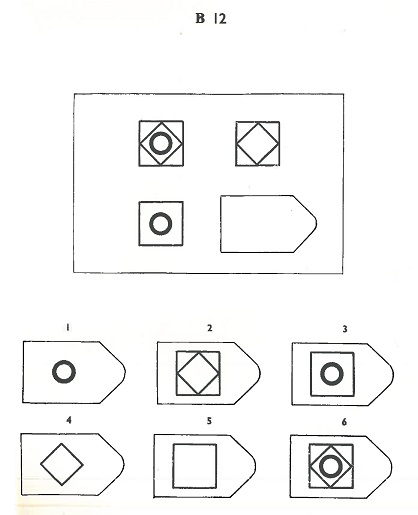Array 1: (18, 319, 131, 408)
Array 2: (152, 321, 266, 410)
Array 3: (287, 321, 397, 409)
Array 4: (17, 412, 129, 498)
Array 5: (149, 414, 260, 502)
Array 6: (286, 414, 397, 504)
Matrix 1: (132, 115, 189, 173)
Matrix 2: (229, 114, 289, 173)
Matrix 3: (133, 197, 190, 252)
Matrix Unknown: (216, 191, 320, 258)
